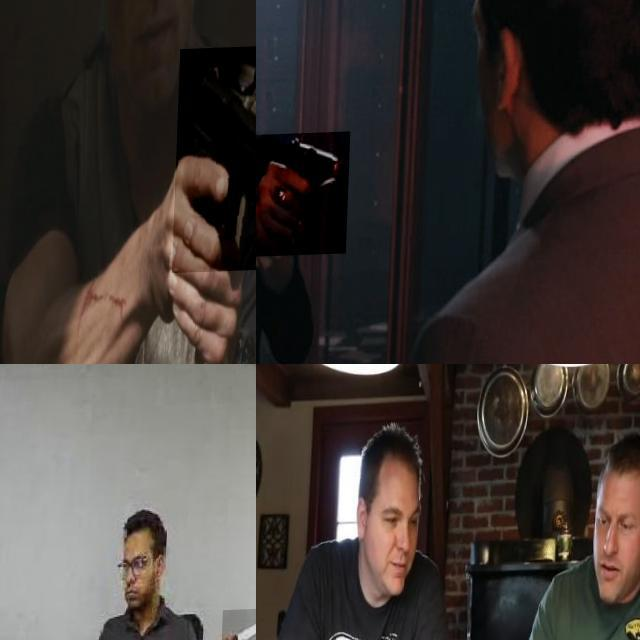-: (224, 610, 256, 640)
gun-knife-thesis - v11 Yolov5 augmented: (176, 48, 256, 275), (256, 134, 353, 258)
